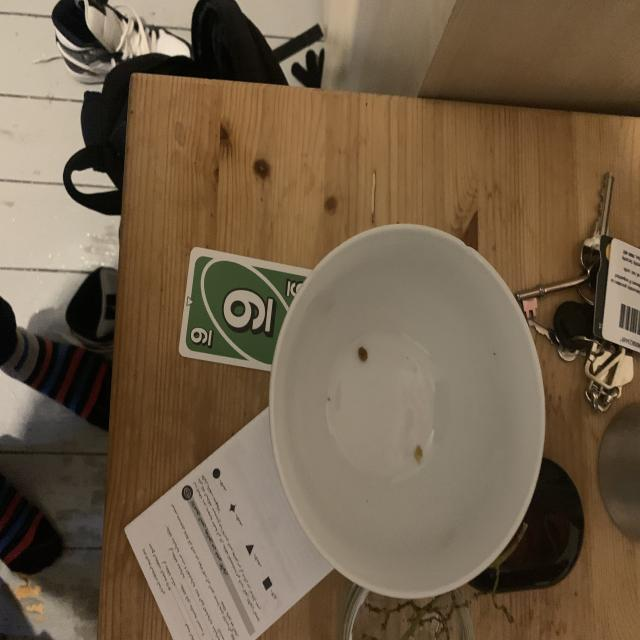lgreen-9: (189, 318, 217, 354)
